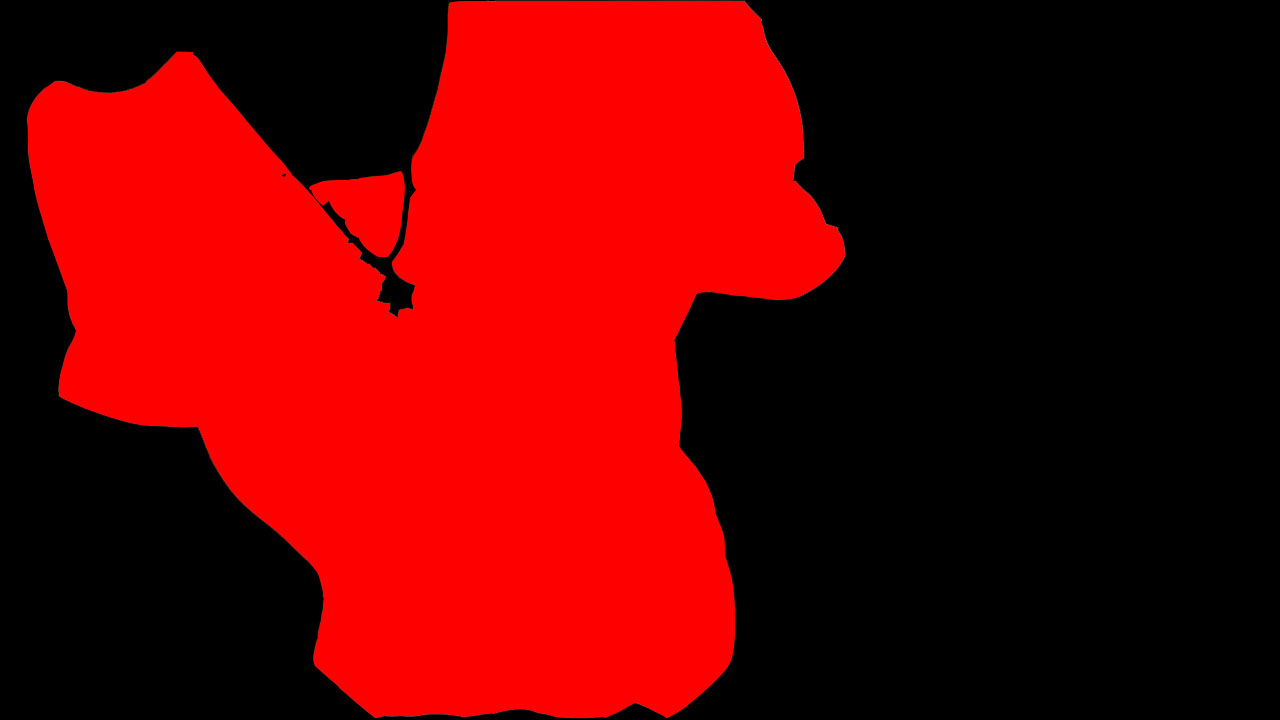uniforme_ifmt: (25, 2, 837, 720)
